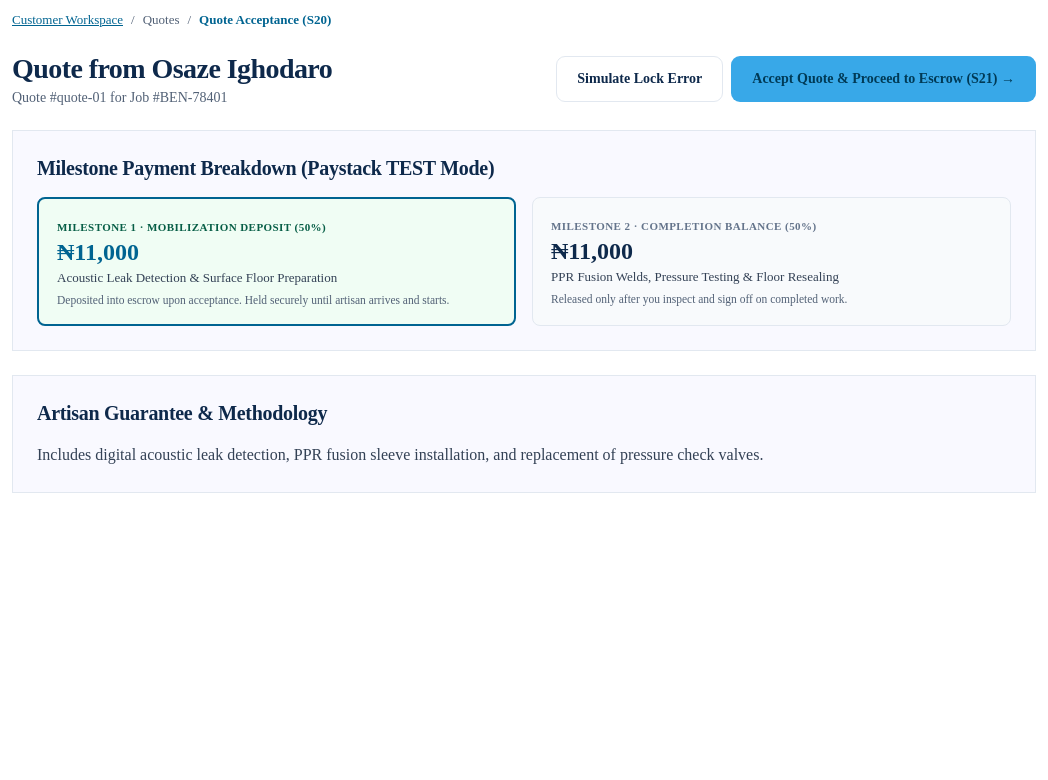
Scenario: Quotes & Escrow Deposits (S17, S18, S19, S20, S21) › renders S20 Quote Details with milestone breakdown and supports acceptance
Expected: the heading "Quote from Osaze Ighodaro" is shown, [12, 52, 332, 86]
Expected: the text "Milestone 1 · Mobilization Deposit (50%)" is shown, [57, 221, 326, 233]
Click the button "Accept Quote & Proceed to Escrow (S21) →".
click(884, 79)  # box [731, 56, 1036, 102]
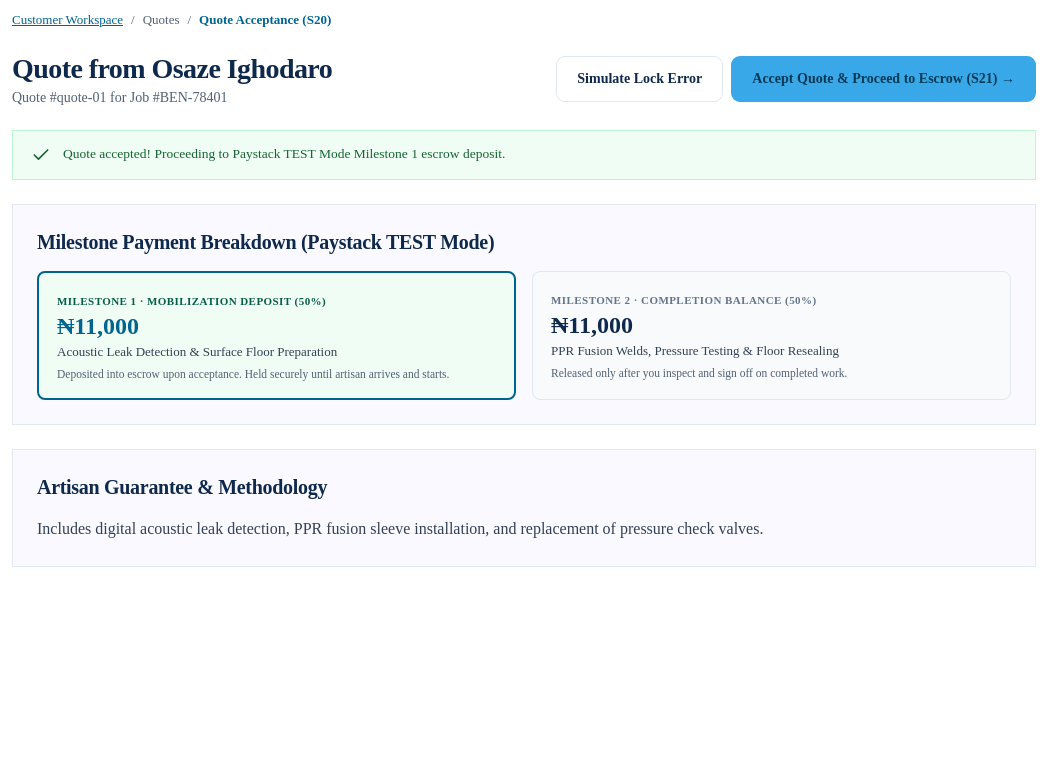
Expected: the text "Quote accepted" is shown, [63, 146, 505, 161]
